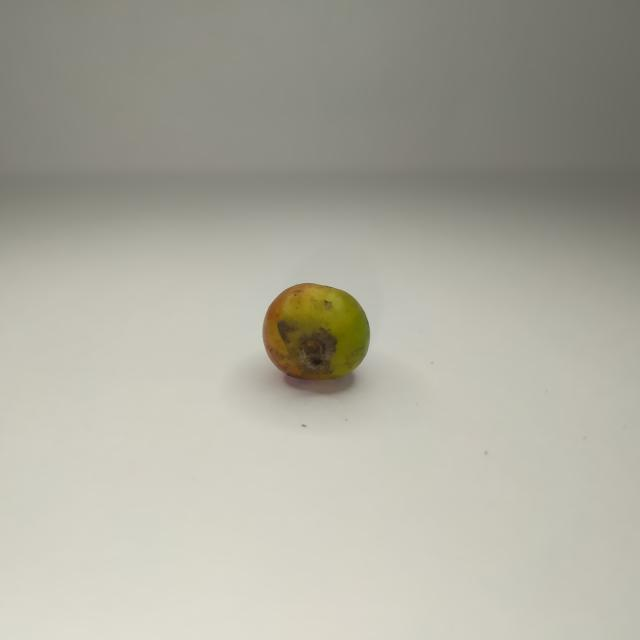Infectado: (262, 283, 369, 381)
